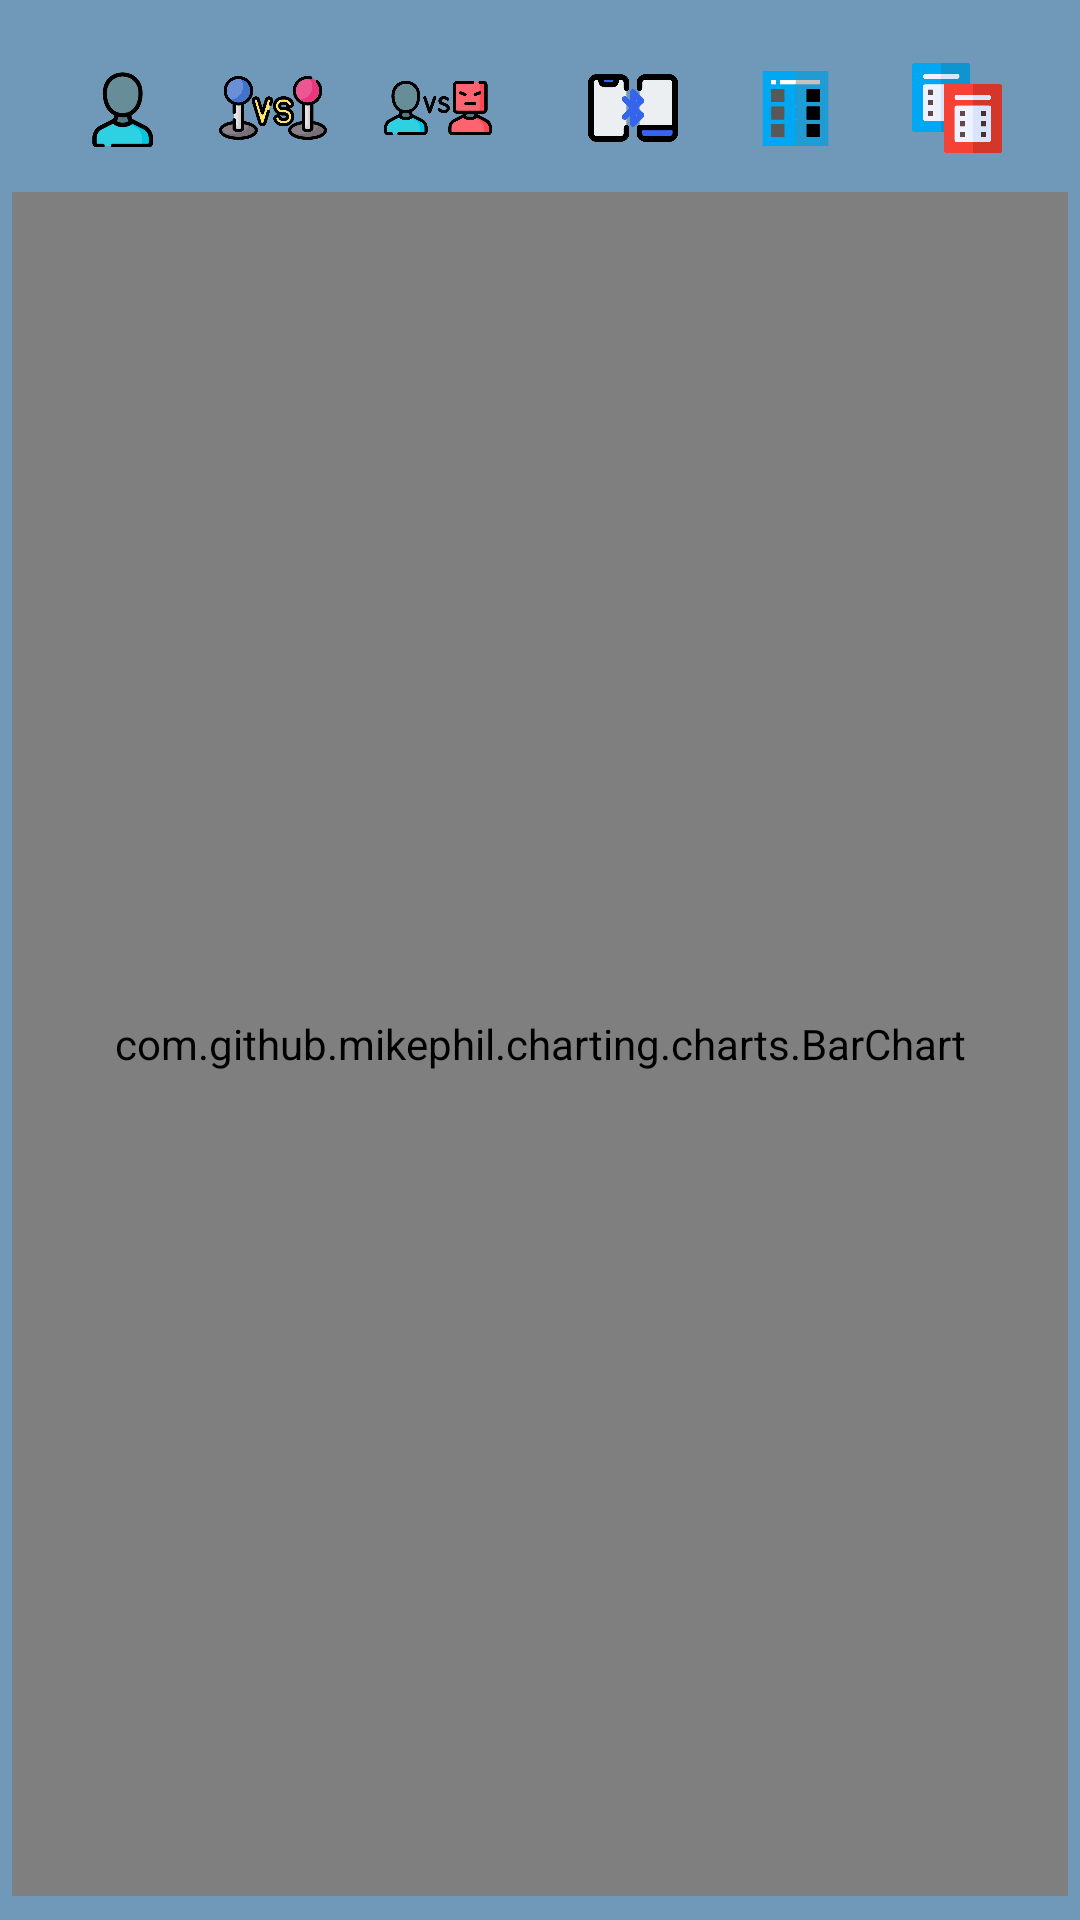

Screen size 1080w x 1920h. Icon name, then its box in pixels as (x1=x1, y1=y1, x2=x2, y2=y2):
Local Multiplayer: (x1=219, y1=76, x2=327, y2=140)
Single Player: (x1=92, y1=72, x2=153, y2=147)
VS Robot: (x1=384, y1=81, x2=492, y2=135)
